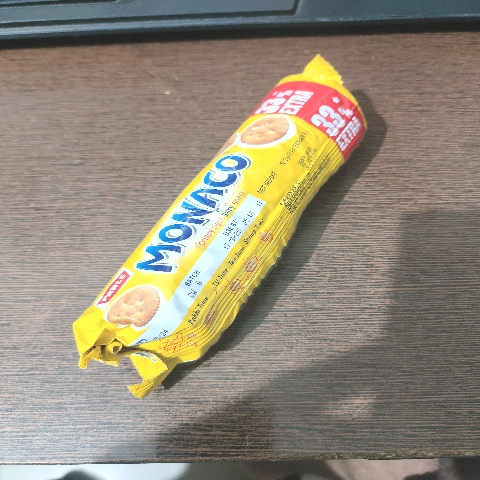monaco: (51, 57, 278, 322)
